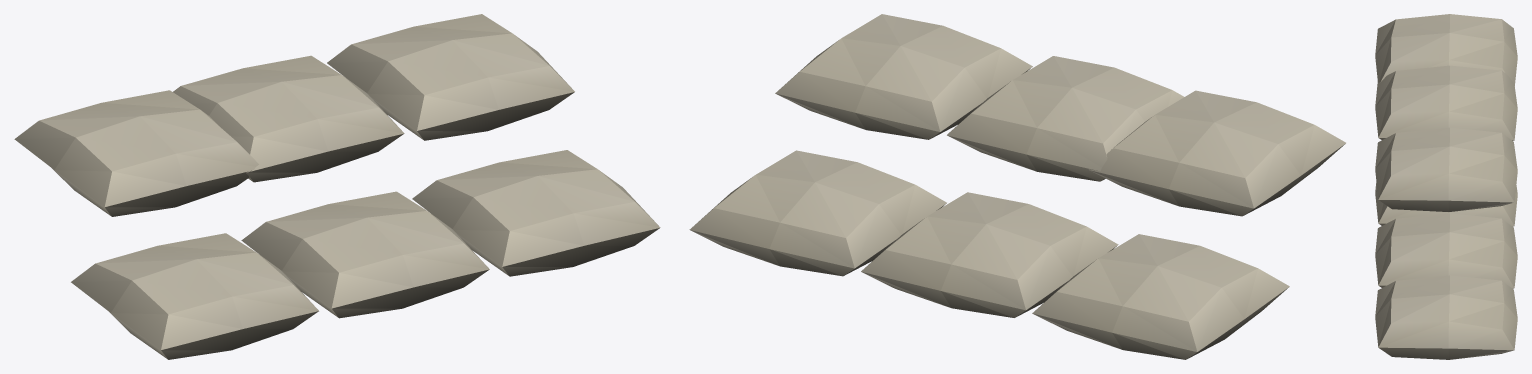
Rendered from sandbag_wall_lod1.glb.
3 views of the same model, side by side, from view 1: azimuth 30°, elevation 25°; view 2: azimuth 150°, elevation 25°; view 3: azimuth 270°, elevation 25° (orthographic). The views are drawn at different scales.
Visible parts, largest first — view 1: sandbag_model.001; view 2: sandbag_model.001; view 3: sandbag_model.001.
Boxes of the visible parts, left/top/right/bottom form: sandbag_model.001: left=14, top=14, right=660, bottom=359; sandbag_model.001: left=689, top=14, right=1345, bottom=359; sandbag_model.001: left=1375, top=14, right=1517, bottom=359.
Bounding box in the file's own units: 2.4 × 0.9 × 0.7.
